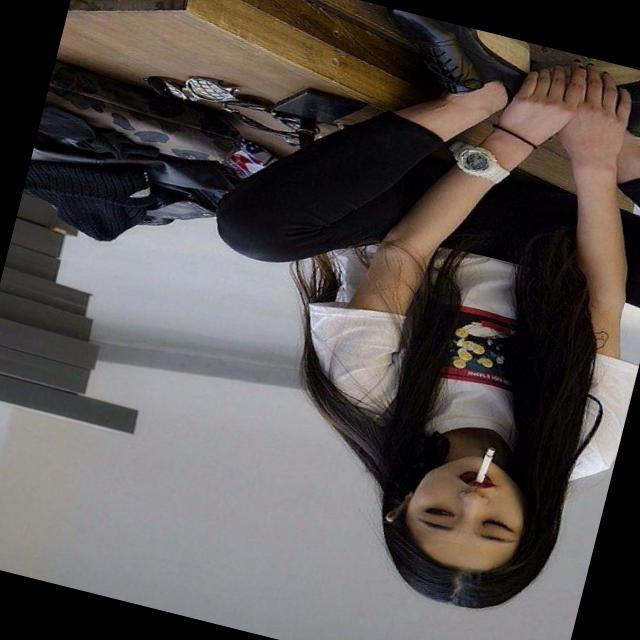smoke: (446, 431, 518, 497)
